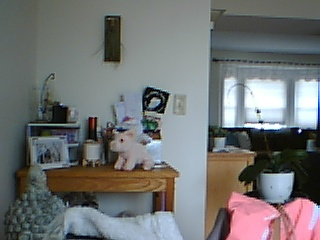piggy: (109, 129, 155, 172)
